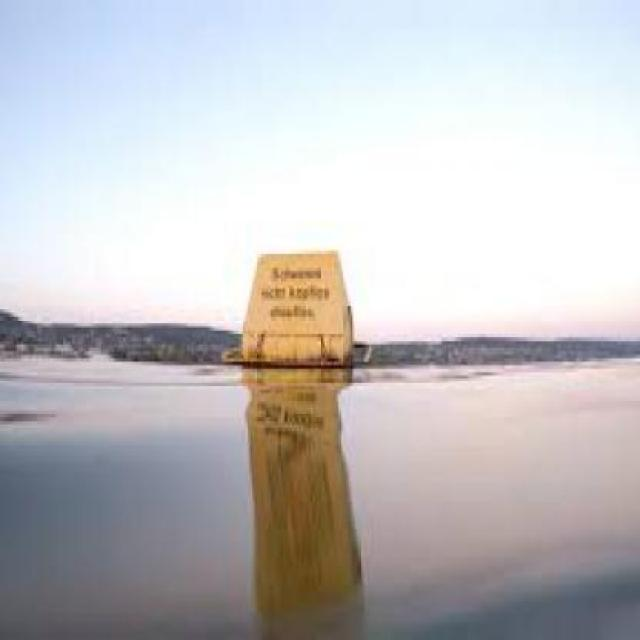buoy: (211, 237, 385, 397)
